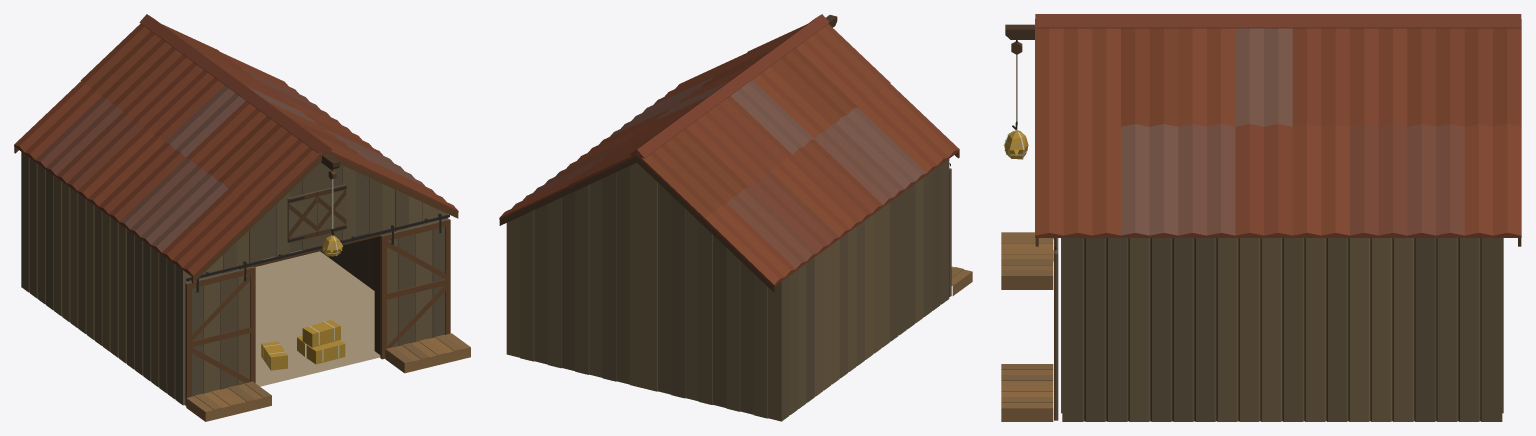
File: livery-stable.glb
3 views of the same model, side by side, from view 1: azimuth 30°, elevation 25°; view 2: azimuth 150°, elevation 25°; view 3: azimuth 270°, elevation 25° (orthographic). The views are drawn at different scales.
Visible parts, largest first — view 1: livery-stable-mesh, door-r-mesh, door-l-mesh, hay-bales-mesh, loft-door-l-mesh, loft-door-r-mesh; view 2: livery-stable-mesh; view 3: livery-stable-mesh, door-r-mesh, hay-net-mesh.
Boxes of the visible parts, x1=… form: livery-stable-mesh: x1=14, y1=14, x2=470, y2=421; door-r-mesh: x1=380, y1=213, x2=450, y2=359; door-l-mesh: x1=185, y1=261, x2=255, y2=405; hay-bales-mesh: x1=261, y1=320, x2=345, y2=370; loft-door-l-mesh: x1=287, y1=191, x2=317, y2=242; loft-door-r-mesh: x1=317, y1=184, x2=346, y2=235; livery-stable-mesh: x1=499, y1=14, x2=972, y2=421; livery-stable-mesh: x1=1001, y1=14, x2=1521, y2=421; door-r-mesh: x1=1053, y1=238, x2=1058, y2=420; hay-net-mesh: x1=1004, y1=129, x2=1028, y2=159.
Size of the model in its own units: 8 by 6.78 by 10.
